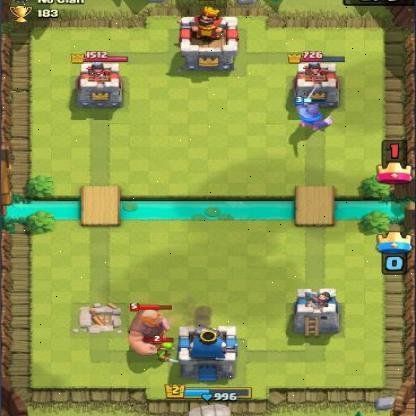EGiant: (128, 310, 169, 355)
EGoblin: (157, 337, 177, 362)
EKingTower: (179, 7, 239, 69)
EnemyPrincessTower: (294, 55, 344, 106), (76, 62, 122, 107)
OKnight: (295, 97, 332, 130)
OwnKingTower: (177, 326, 237, 376)
OwnPrincessTower: (293, 288, 339, 335)
TowerDown: (71, 302, 128, 336)
